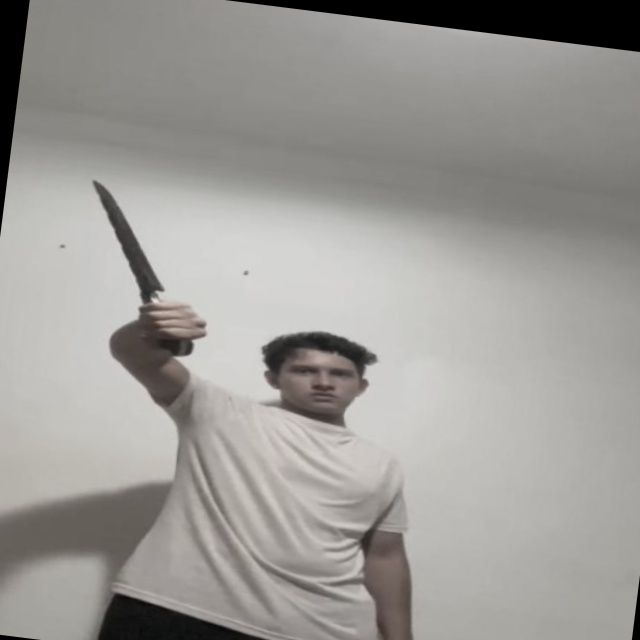Sharp-Object: (76, 180, 173, 292)
